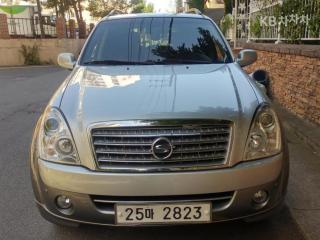2: (123, 206, 135, 222), (162, 206, 172, 221), (182, 206, 192, 220)
3: (191, 205, 204, 220)
5: (134, 206, 145, 222)
8: (172, 206, 182, 220)
마: (144, 207, 155, 220)
